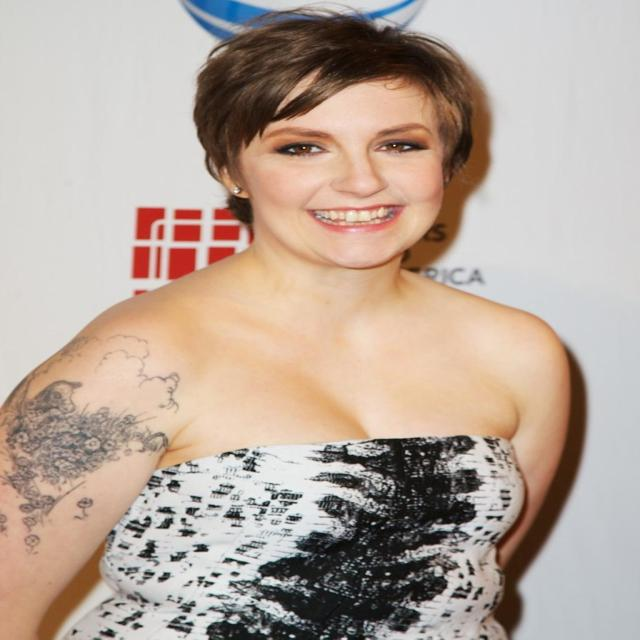Face: (227, 72, 486, 278)
